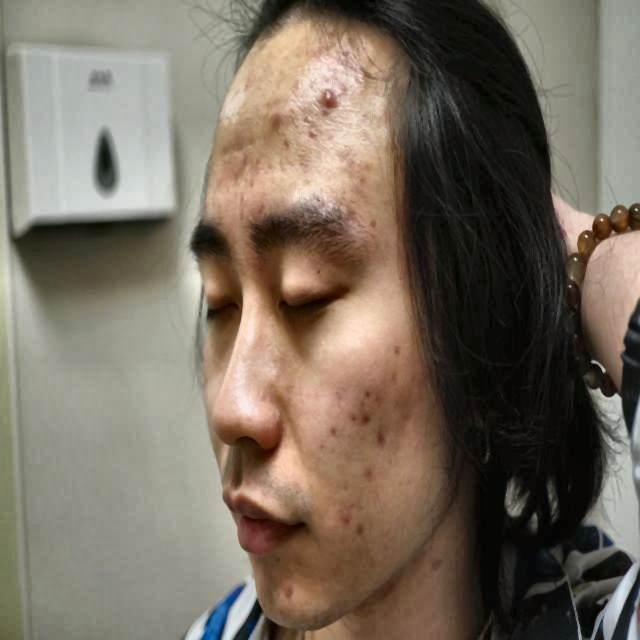pustule: (395, 394, 416, 436), (356, 381, 383, 413), (321, 86, 344, 113), (352, 509, 366, 547), (336, 508, 353, 534), (374, 425, 392, 449), (363, 464, 380, 486), (326, 422, 338, 439), (356, 412, 374, 419)
